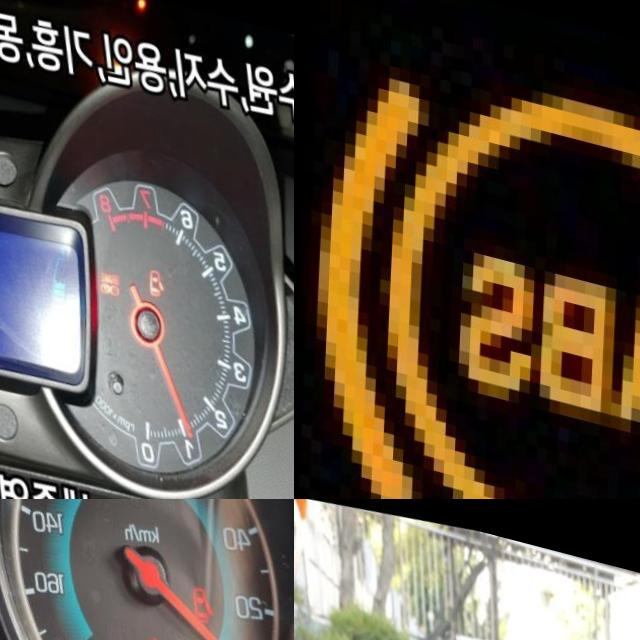Doors: (195, 557, 220, 600), (152, 245, 169, 275)
